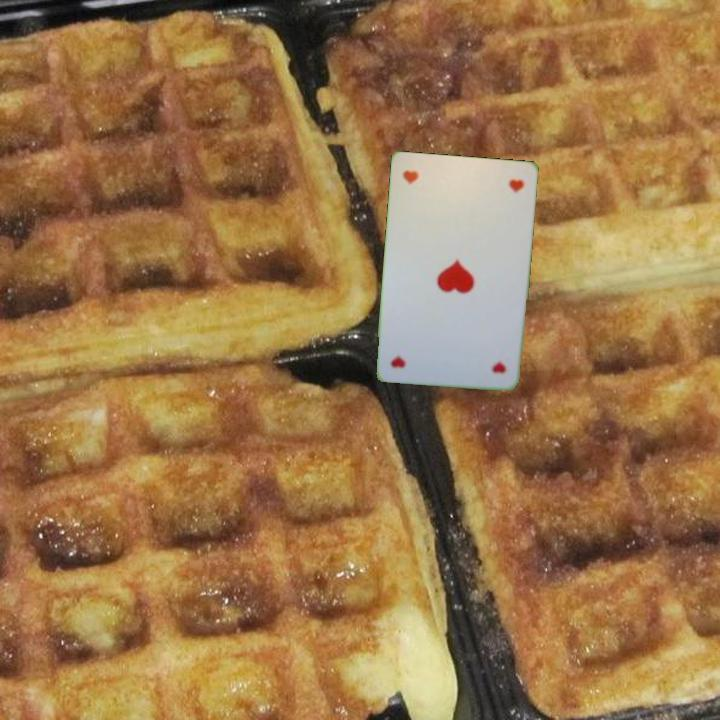h_a.png: (396, 161, 467, 224), (445, 319, 516, 381)
